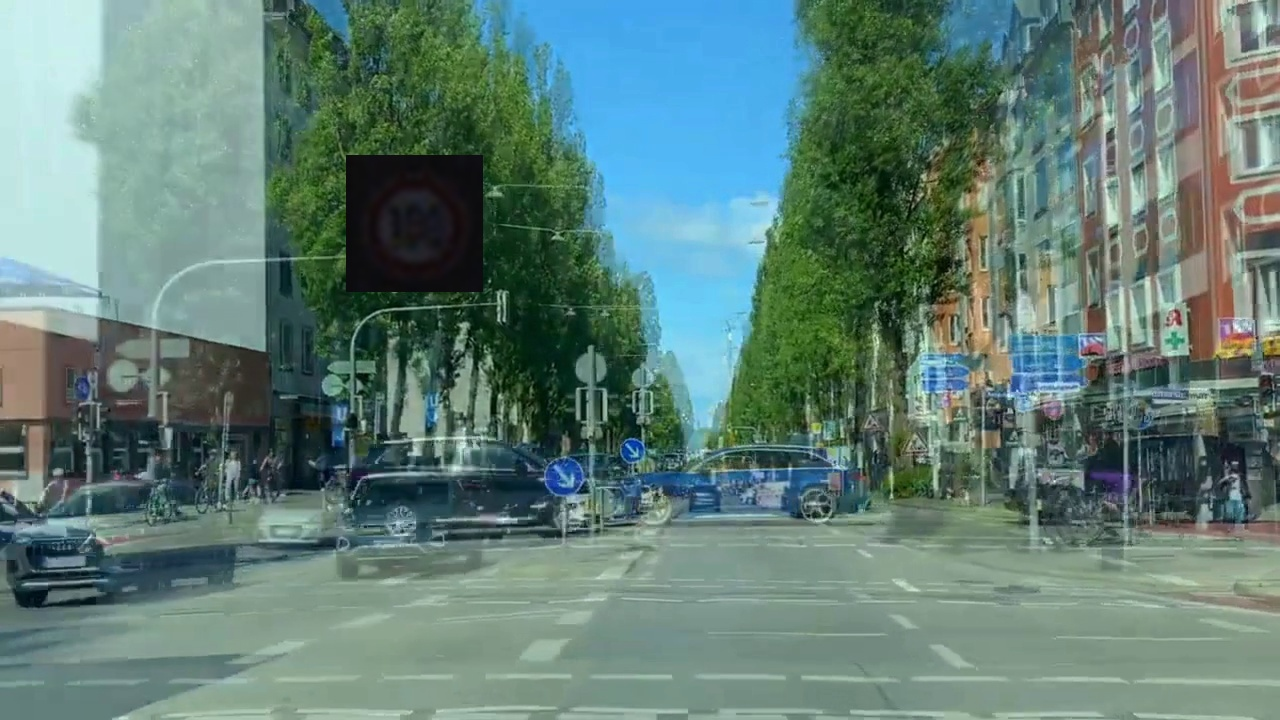Speed 100: (346, 155, 483, 292)
